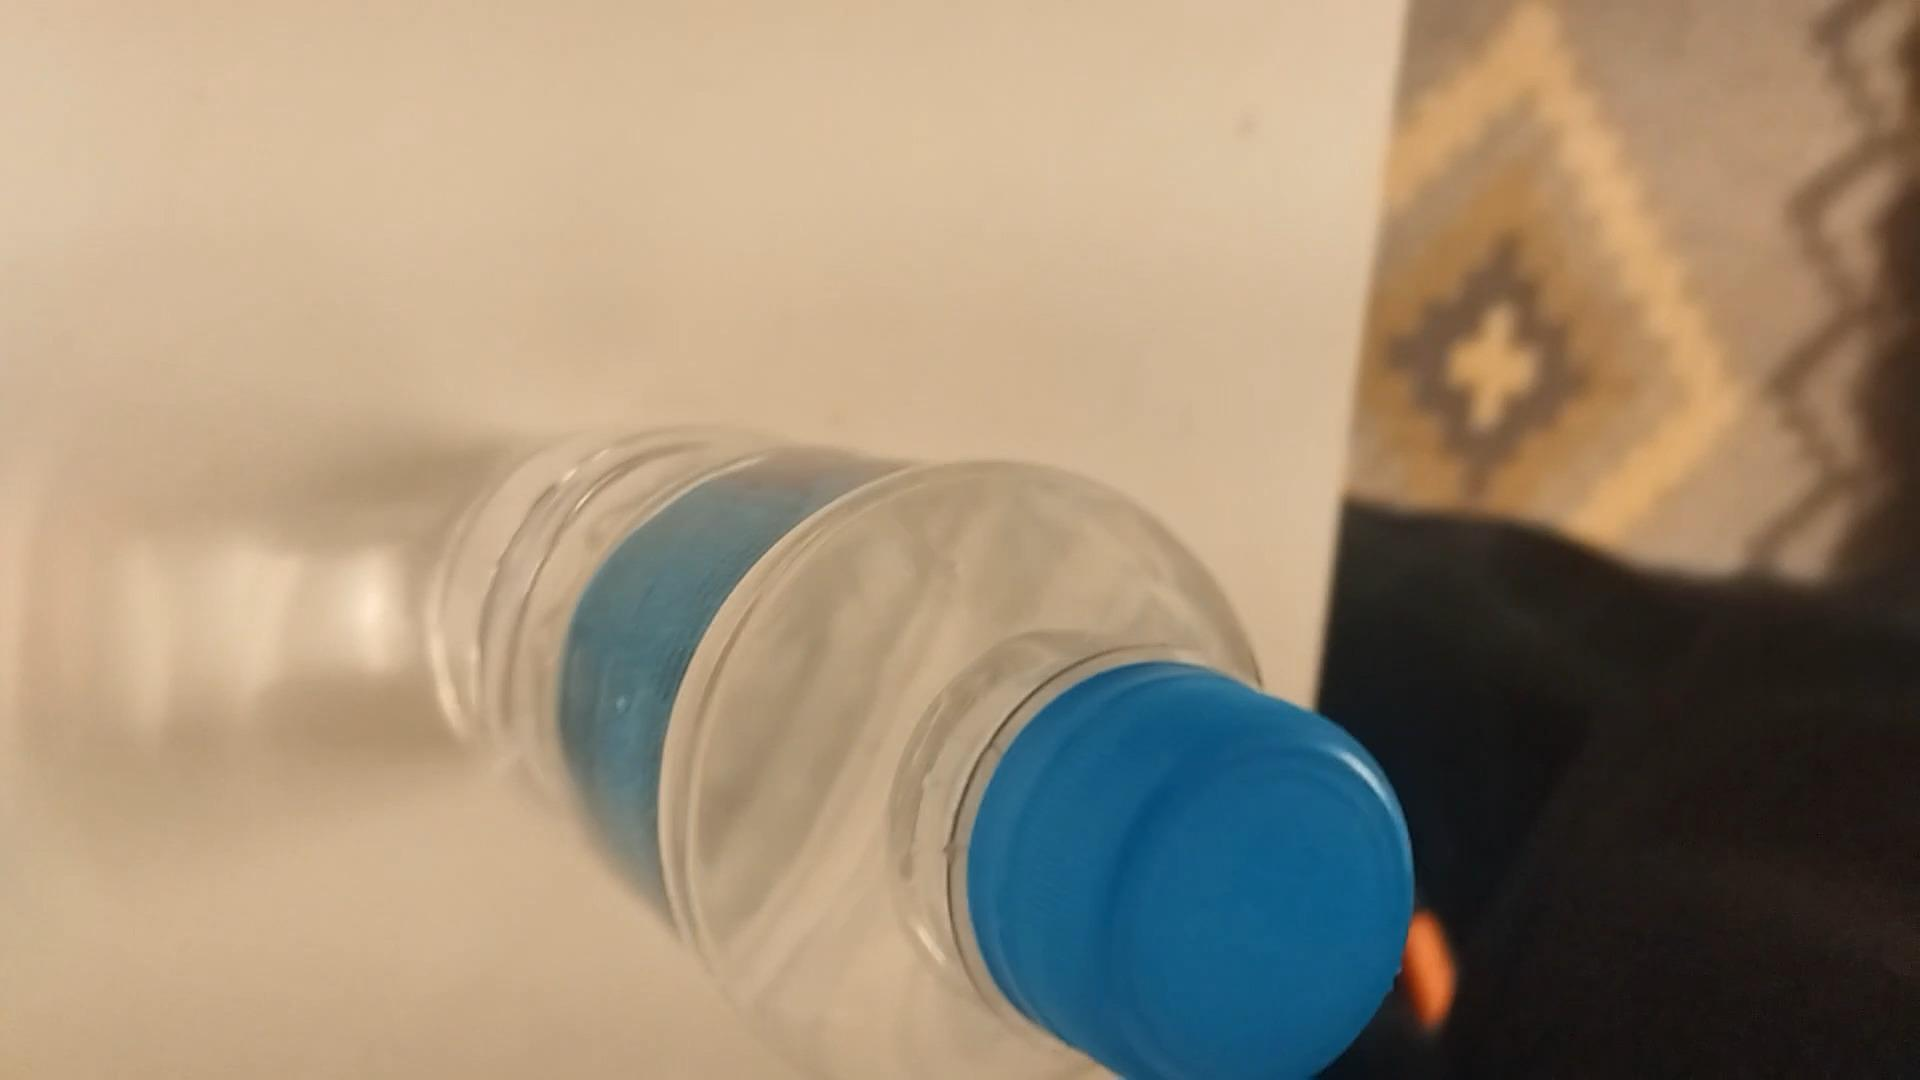agua: (430, 426, 1389, 1077)
